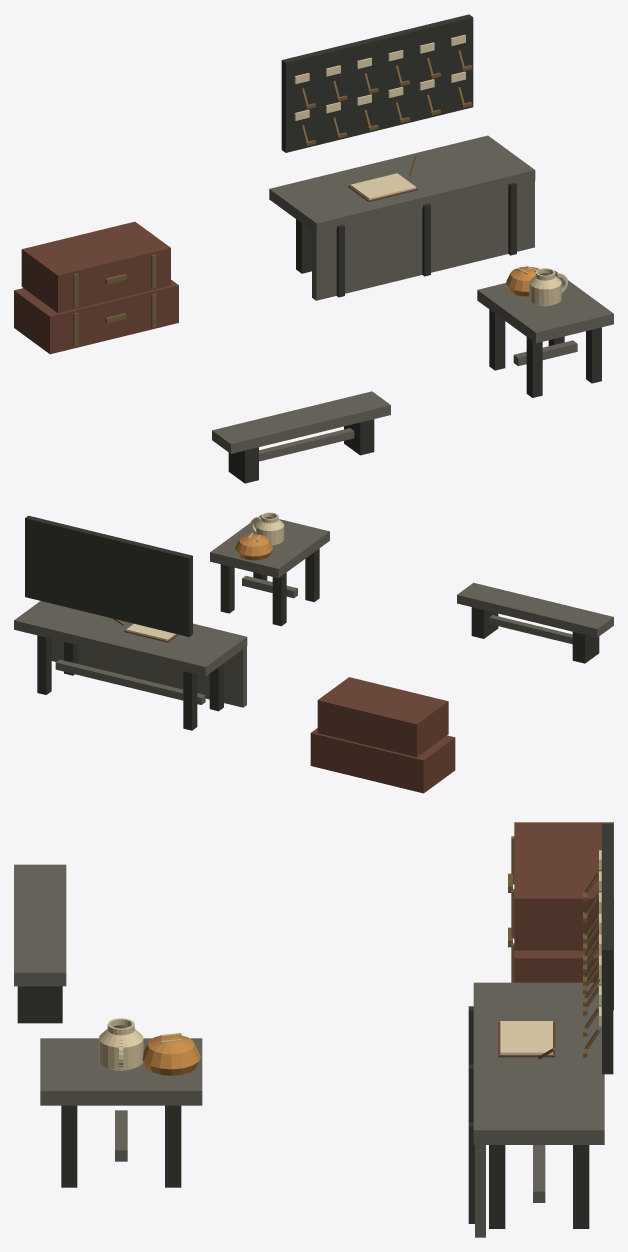
File: village_meadowinn_artifacts.glb
3 renders of one model, top to bottom at view 1: azimuth 30°, elevation 25°; view 2: azimuth 150°, elevation 25°; view 3: azimuth 270°, elevation 25°, orthographic. The views are drawn at different scales.
Parts seen in each view (by area): view 1: village_meadowinn_artifacts; view 2: village_meadowinn_artifacts; view 3: village_meadowinn_artifacts.
Part boxes in pixels (box(x1,y1,x2,y2)): village_meadowinn_artifacts: box(14, 14, 613, 483); village_meadowinn_artifacts: box(14, 512, 613, 793); village_meadowinn_artifacts: box(14, 822, 613, 1237).
Size of the model in its own units: 6.03 by 2.5 by 4.81.
